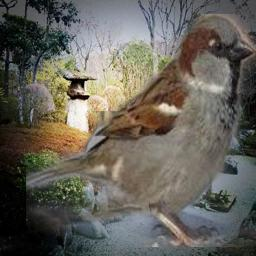Sparrow: (26, 14, 256, 247), (77, 111, 142, 205)
